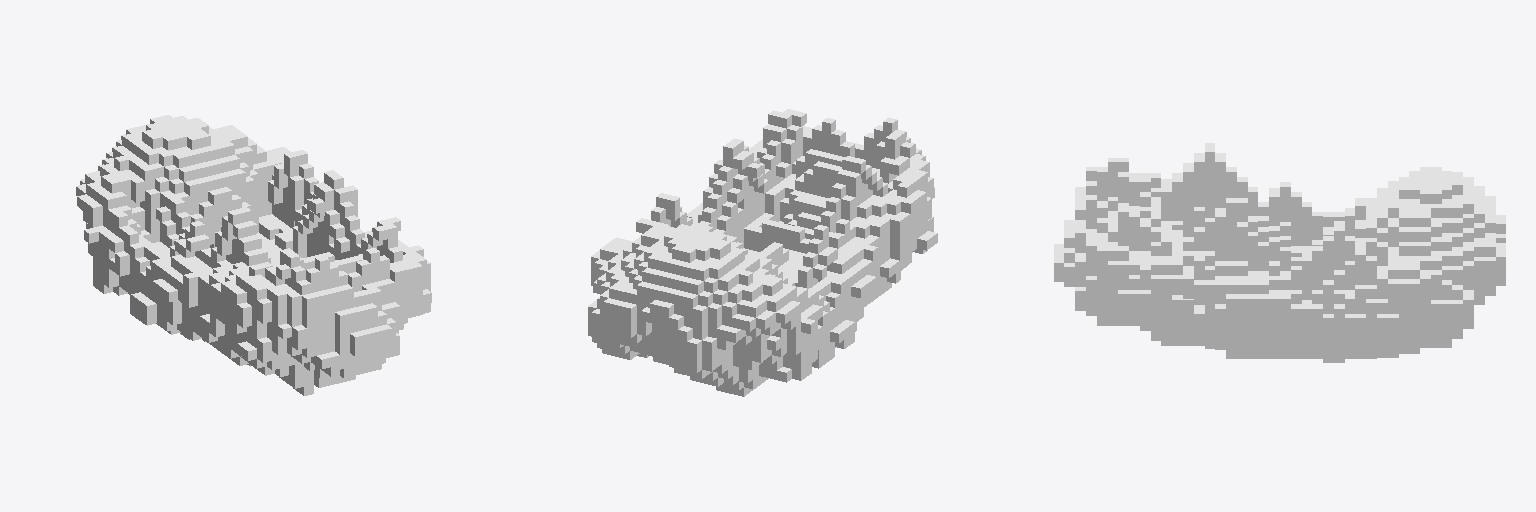
Rendered from JowRedEnemy.obj.
3 renders of one model, left to right at view 1: azimuth 30°, elevation 25°; view 2: azimuth 150°, elevation 25°; view 3: azimuth 270°, elevation 25°, orthographic.
Bounding box in the file's own units: 23 × 17 × 42.